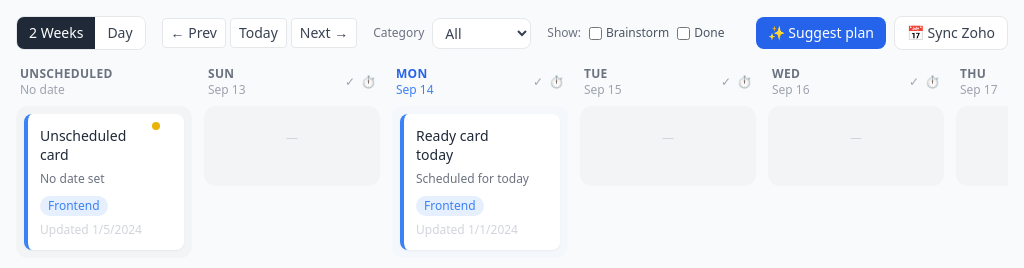
Test: CalendarView › shows done cards when done status filter is toggled on
Click the checkbox labelled "Done" at (684, 33), box [677,26,690,40]
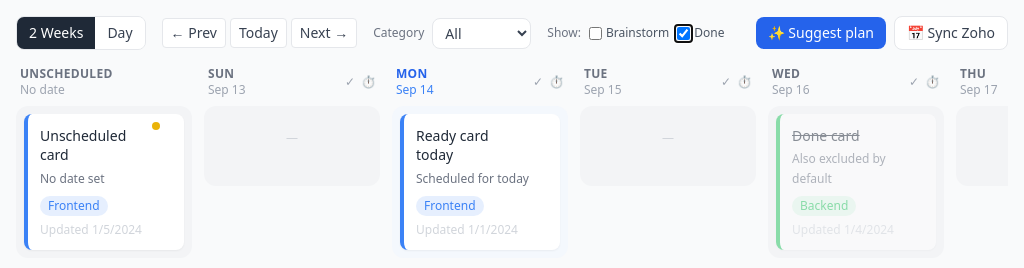
Expected: the text "Done card" is shown, [792,126,860,145]
